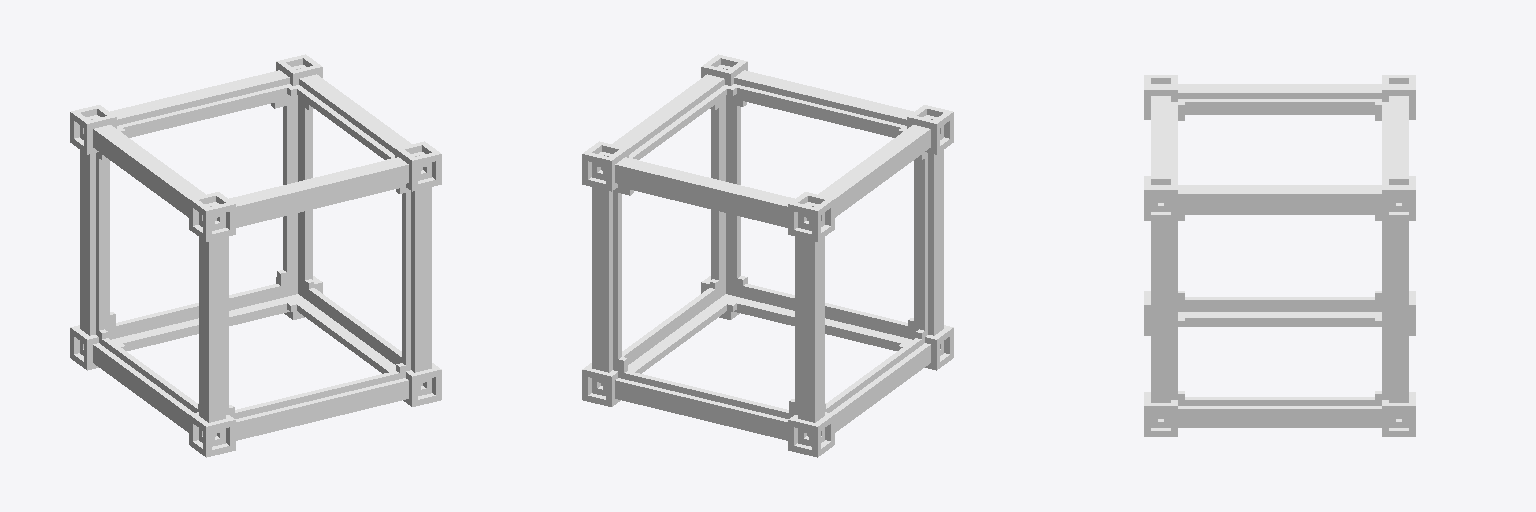
Rendered from Rama.obj.
3 renders of one model, left to right at view 1: azimuth 30°, elevation 25°; view 2: azimuth 150°, elevation 25°; view 3: azimuth 270°, elevation 25°, orthographic.
Parts seen in each view (by area): view 1: cube_rama; view 2: cube_rama; view 3: cube_rama.
Part boxes in pixels (x1,y1,x2,y2): cube_rama: (70, 54, 441, 457); cube_rama: (582, 54, 953, 457); cube_rama: (1144, 75, 1415, 436).
Size of the model in its own units: 4 by 4 by 4.